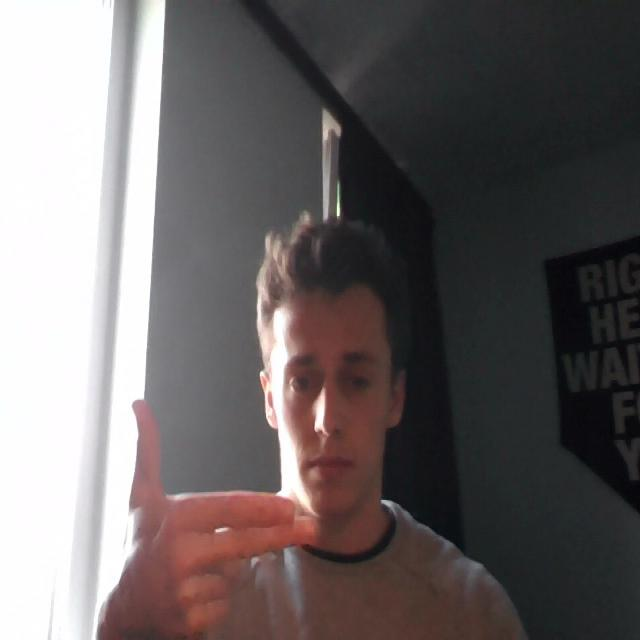right: (90, 382, 333, 638)
